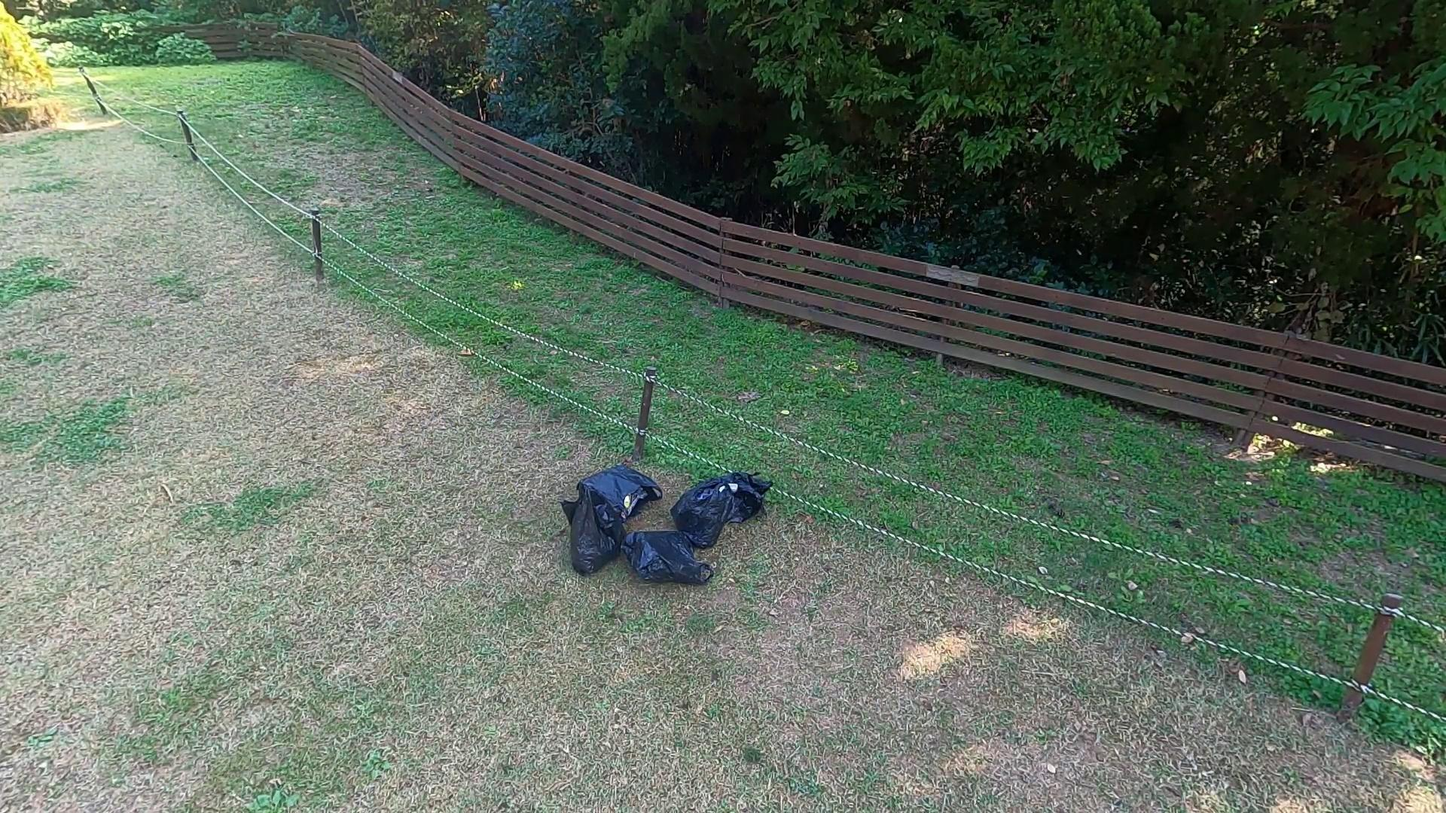trash: (624, 522, 716, 587), (564, 481, 628, 571), (577, 463, 662, 522), (670, 469, 733, 545), (714, 462, 772, 523)
